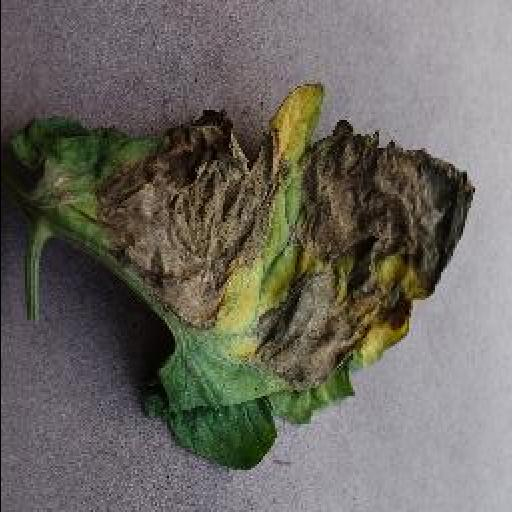disease_tomato: (0, 82, 480, 474)
